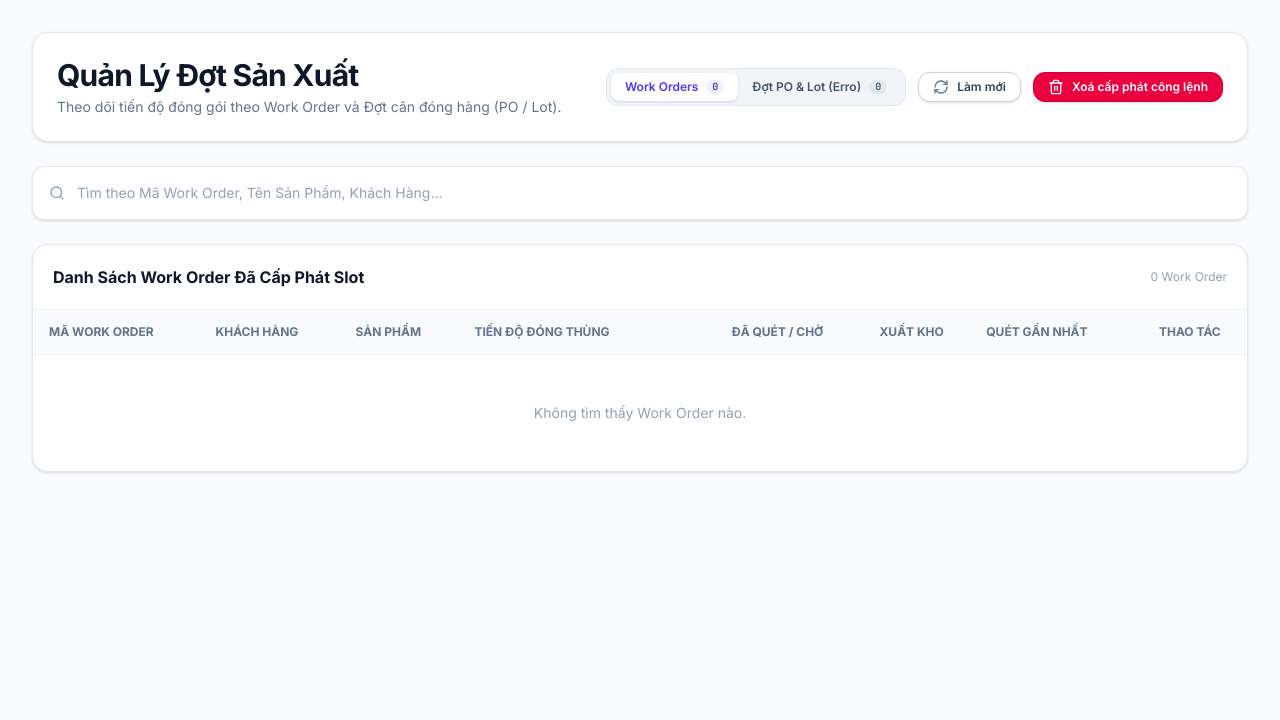
Scenario: ProductionRunsPage › lets an Admin open the Job Order slot allocation cancellation check
Click the button with test id "open-slot-cancellation": (1128, 87) [1033, 72, 1223, 102]
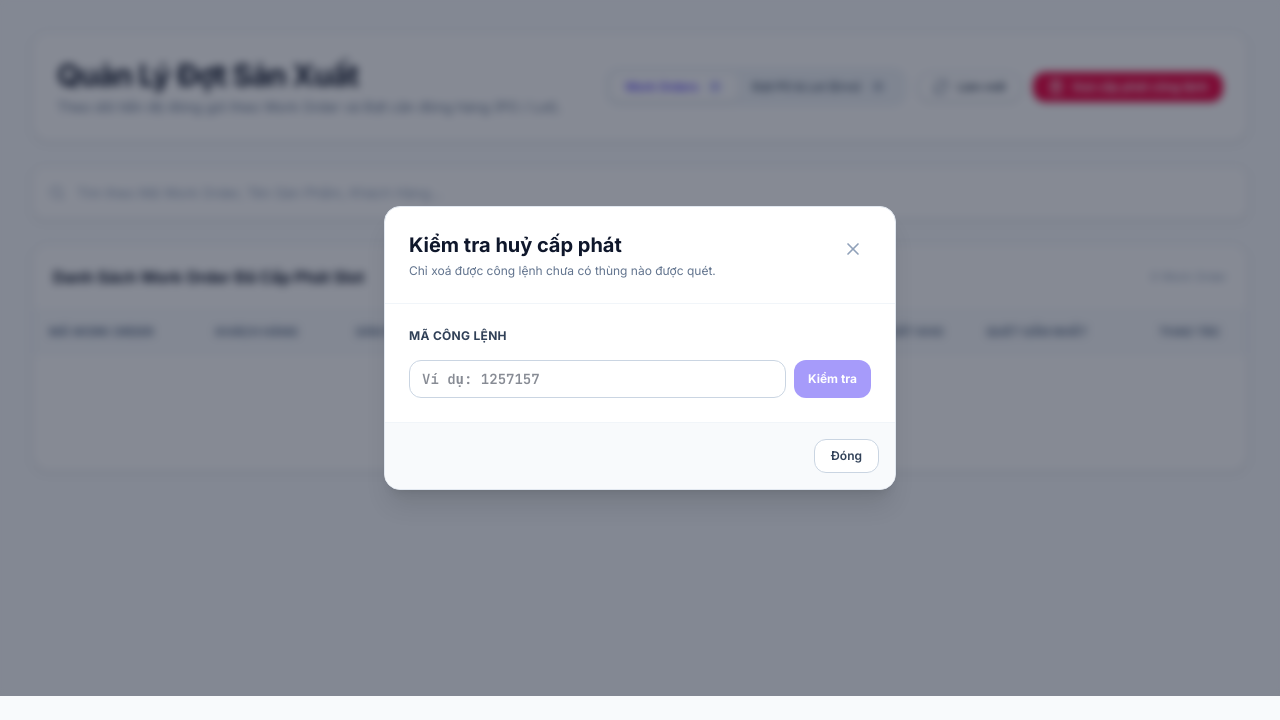
Expected: the text "Kiểm tra huỷ cấp phát" is shown, [409, 233, 622, 257]
Expected: the field with test id "cancellation-job-order-input" is shown, [409, 360, 786, 398]
